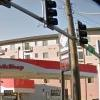Traffic light: (37, 1, 94, 51)
